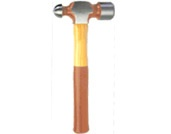hammer: (52, 1, 114, 132)
